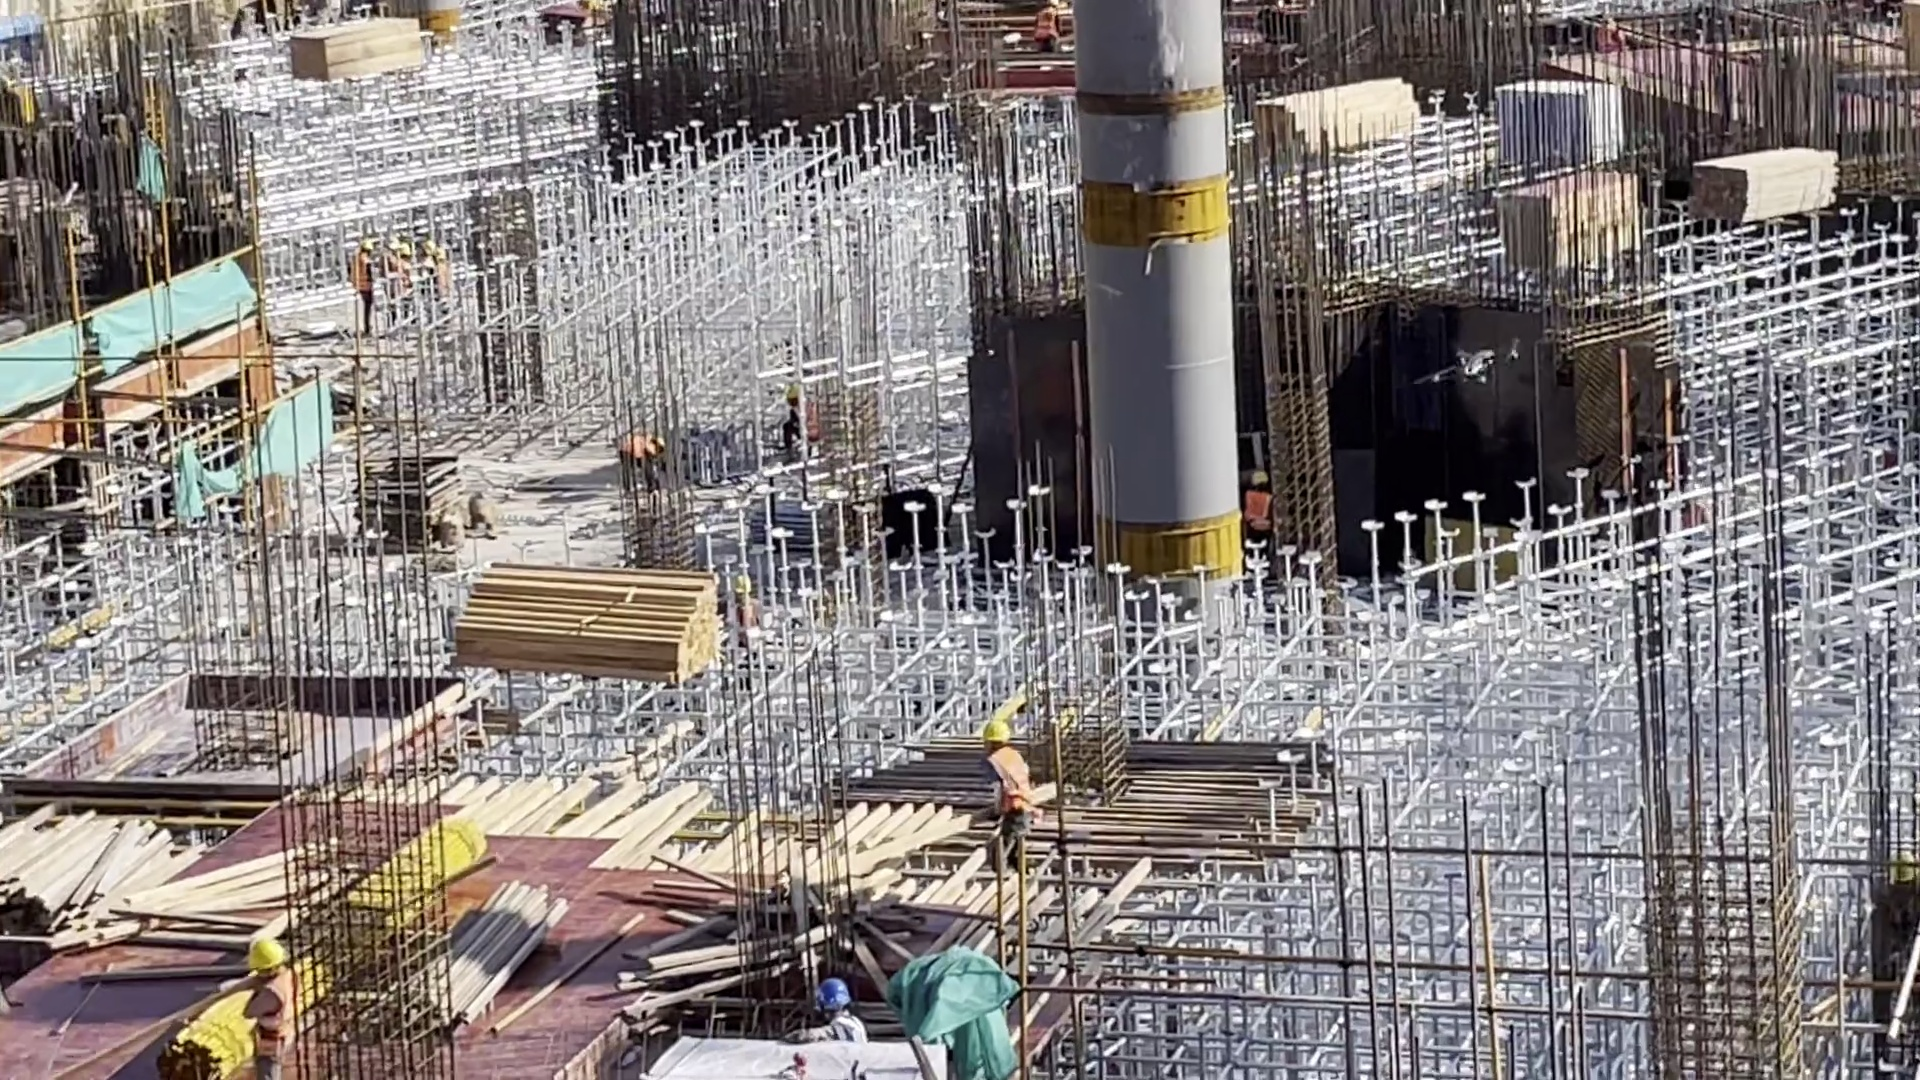helmet: (247, 936, 284, 974), (814, 979, 860, 1009), (980, 718, 1015, 744), (1247, 469, 1269, 488)
person: (974, 710, 1033, 847), (242, 933, 292, 1080), (612, 428, 666, 504), (796, 982, 871, 1037), (781, 384, 820, 463), (722, 569, 759, 653), (1243, 466, 1277, 540), (350, 240, 376, 333), (376, 239, 402, 279), (433, 252, 453, 285)
vest: (249, 977, 294, 1059), (988, 753, 1030, 818), (1247, 487, 1281, 529)
